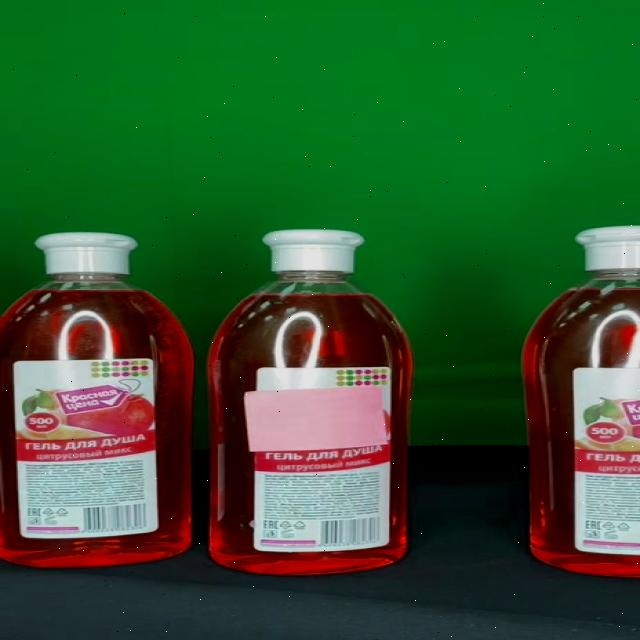Bottle: (207, 229, 416, 576), (0, 231, 194, 568)
Cap: (262, 230, 365, 273), (34, 232, 138, 274)
